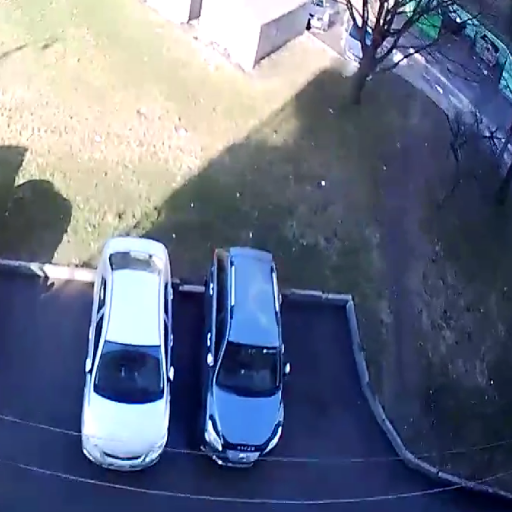Car: (70, 227, 179, 462), (195, 246, 295, 462)
